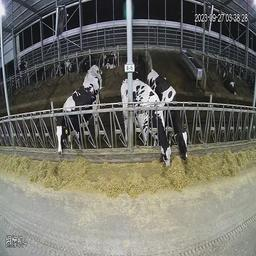cow: (120, 77, 170, 169), (146, 69, 189, 160), (55, 78, 101, 152), (83, 64, 103, 91), (222, 66, 237, 95), (103, 50, 117, 72)
